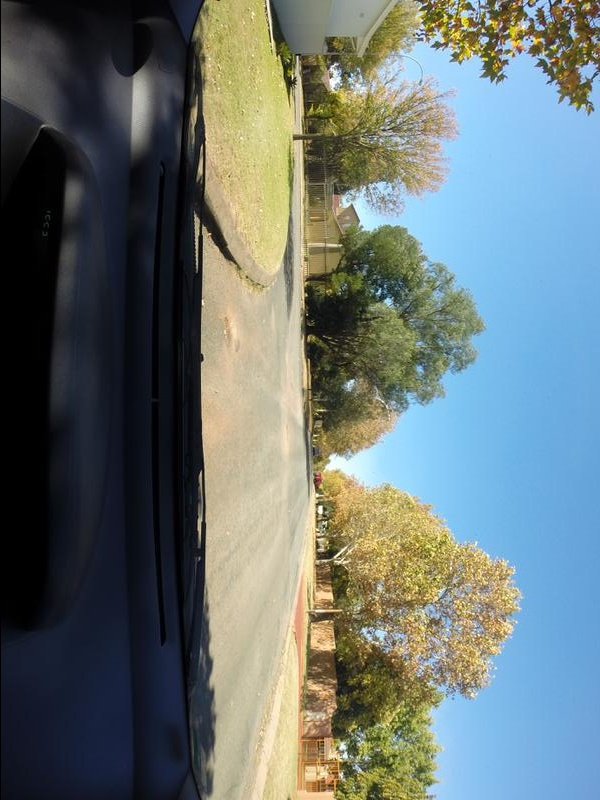pothole: (214, 311, 243, 350)
